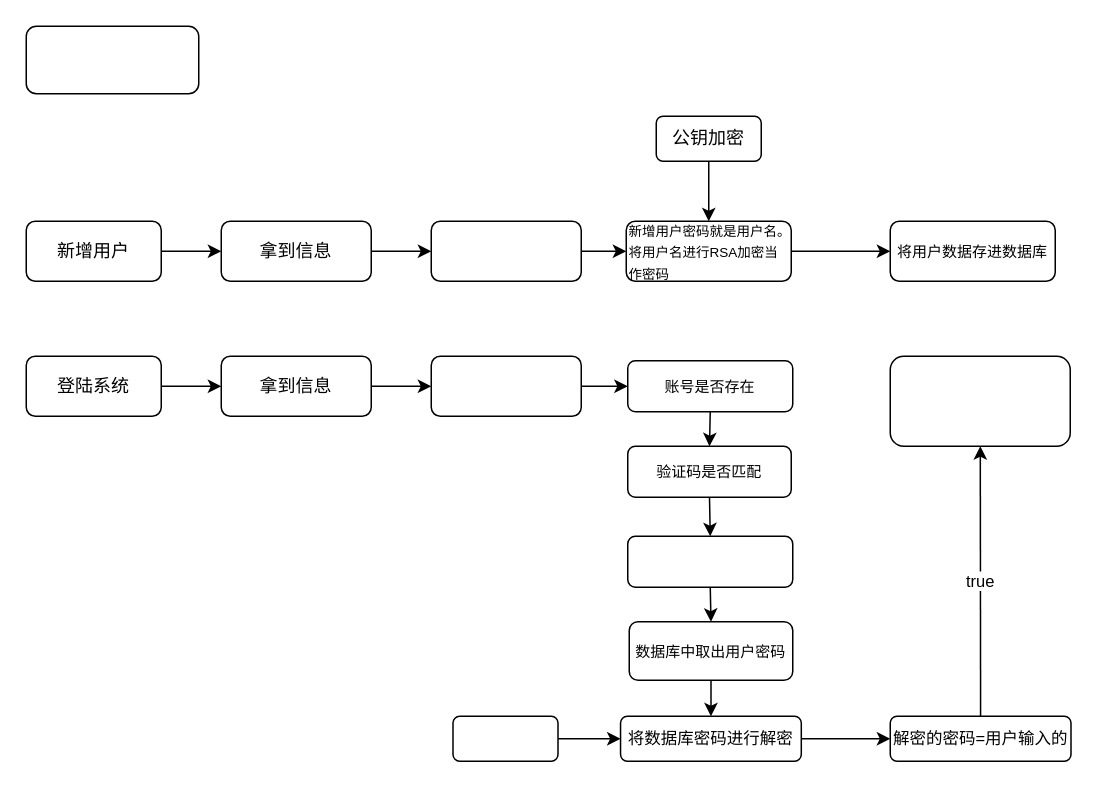
The diagram is 1098 pixels wide and 788 high, and some of its shapes have lost their labels. The centre of each missing label's shape, as x and y in pixels:
密码是否匹配: the point at 709,561
私钥解密: the point at 505,738
系统设置：公钥和私钥: the point at 112,59
进入系统: the point at 979,400
验证用户信息: the point at 505,385
验证用户是否存在: the point at 505,250
